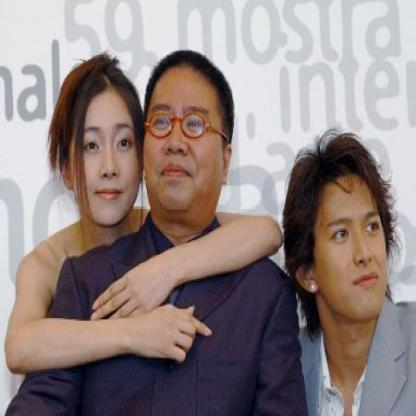face: (308, 150, 393, 330), (141, 53, 229, 220), (69, 67, 145, 228)
